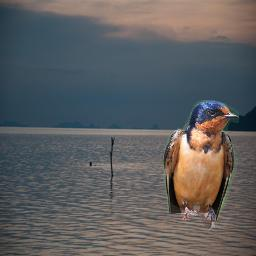Swallow: (163, 100, 239, 230)
